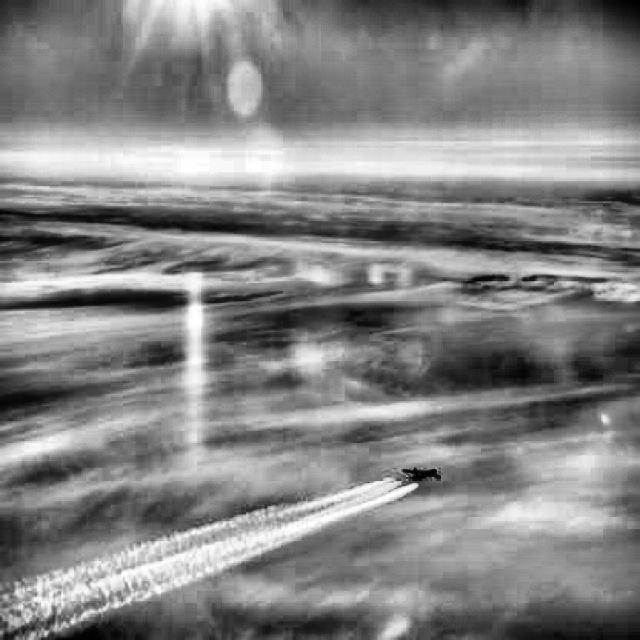B52: (402, 468, 440, 481)
